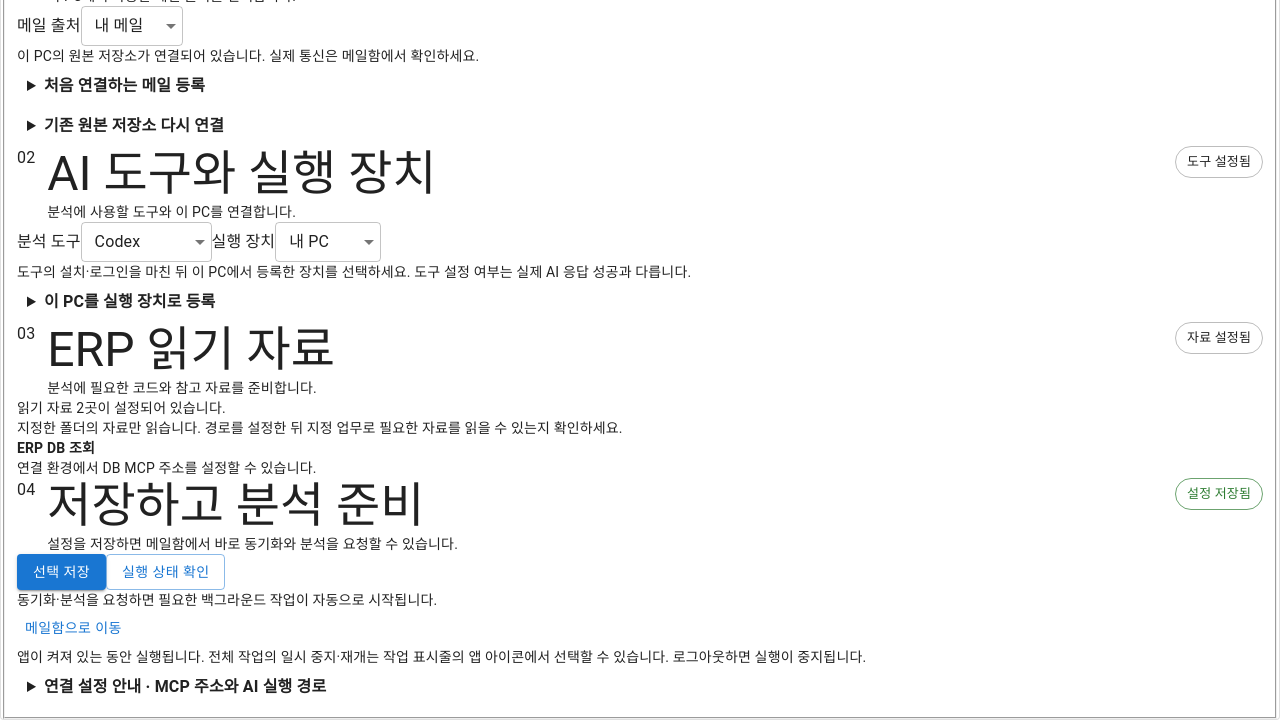
it: late runtime result does not mark a changed selection ready
(page scrolled)
Expected: the dropdown labelled "메일 출처" shows "내 메일", [81,6,183,46]
Click the button "실행 상태 확인": (166, 572) [106,554,226,590]
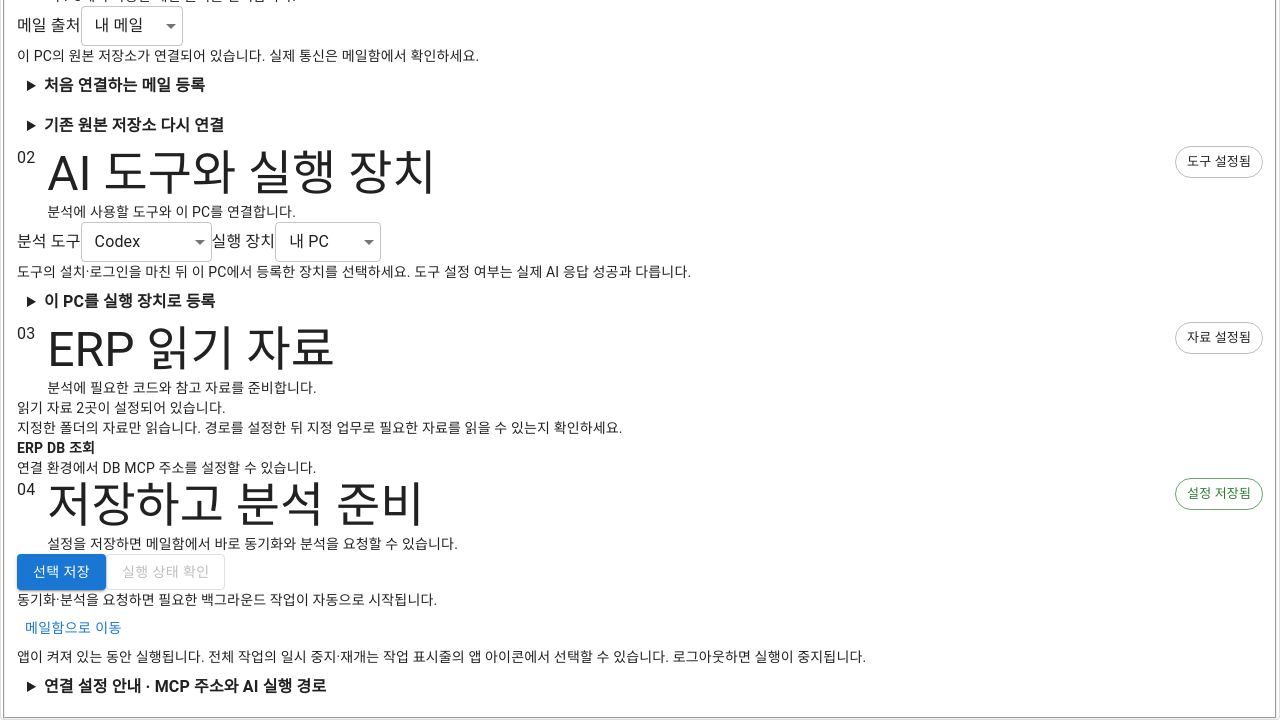
Select "Claude Code" in the dropdown labelled "분석 도구": (146, 242) [81,222,212,262]
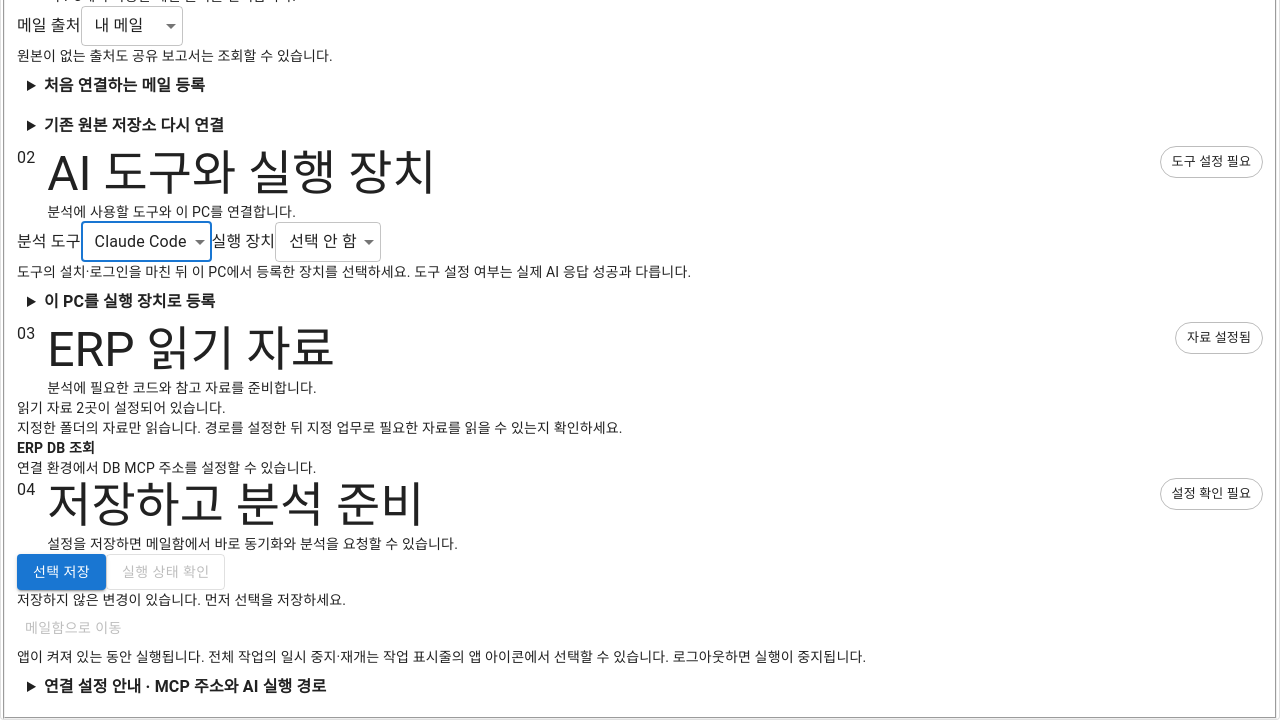
Result: the text "도구 설정 필요" is shown at [1172,154,1251,169]
